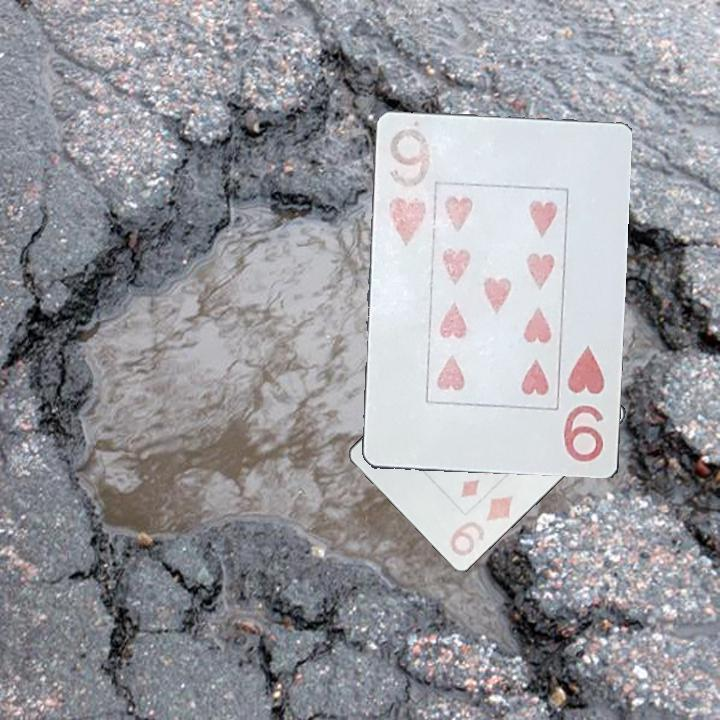9d: (446, 491, 516, 562)
9h: (384, 120, 436, 249), (560, 341, 609, 466)
